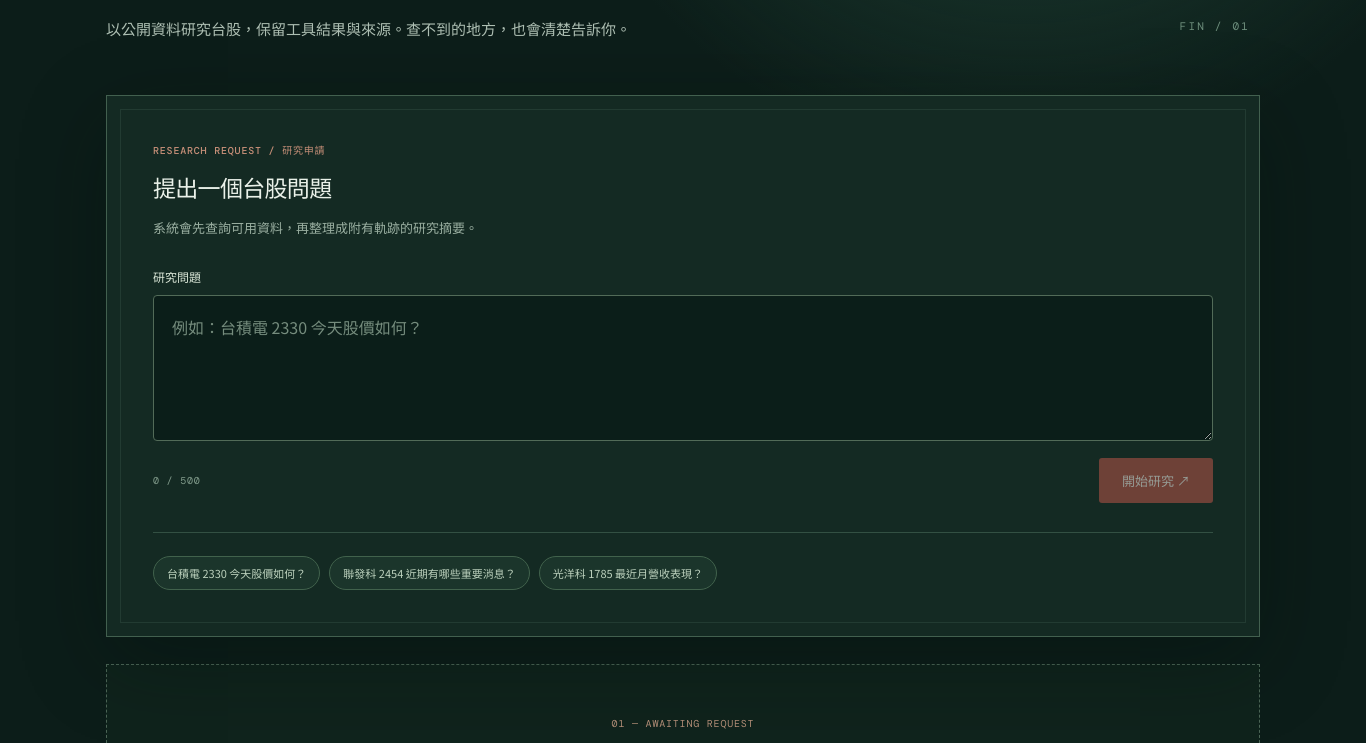
Test: FinScope React research flow › shows the API error detail when research fails
(page scrolled)
Type "2330 今天股價" into the text box labelled "研究問題".
click(683, 368); type("2330 今天股價")  # box [153,295,1213,441]
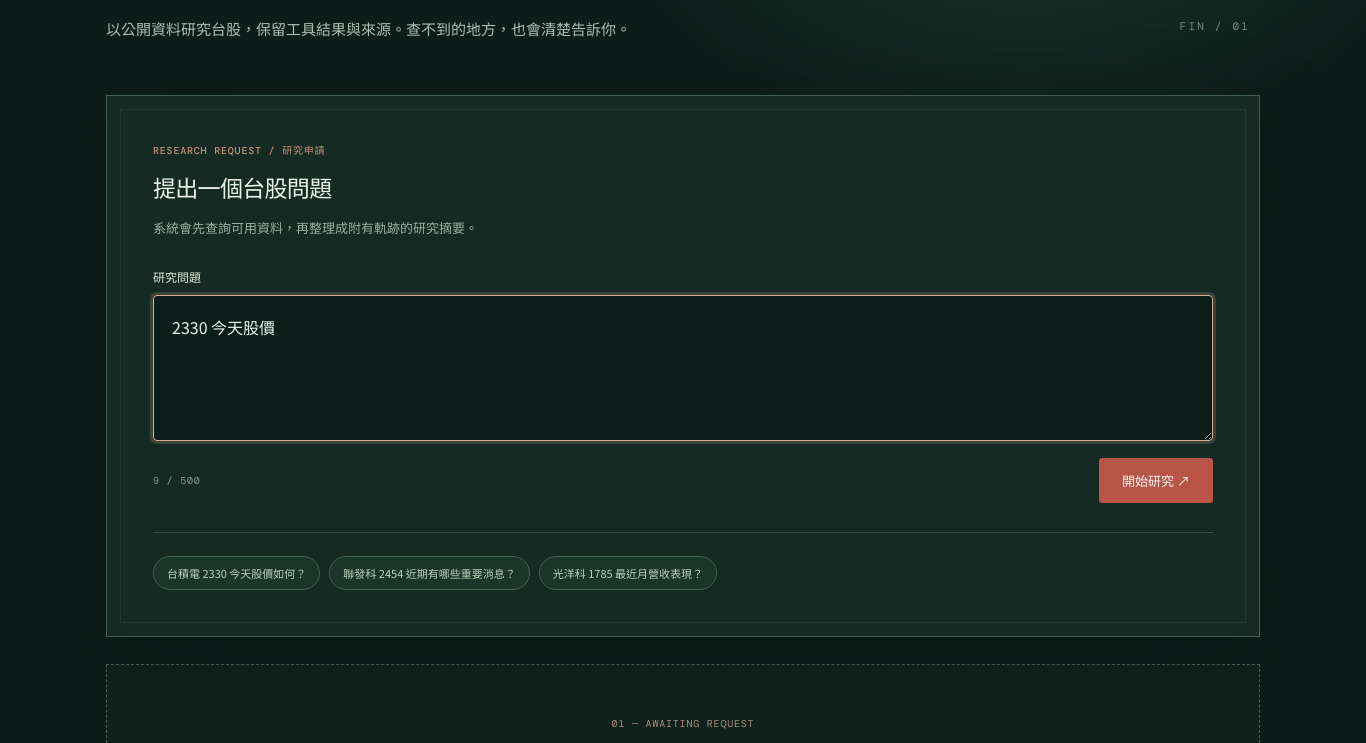
Click the button "開始研究 ↗".
click(1156, 481)  # box [1099,458,1213,503]
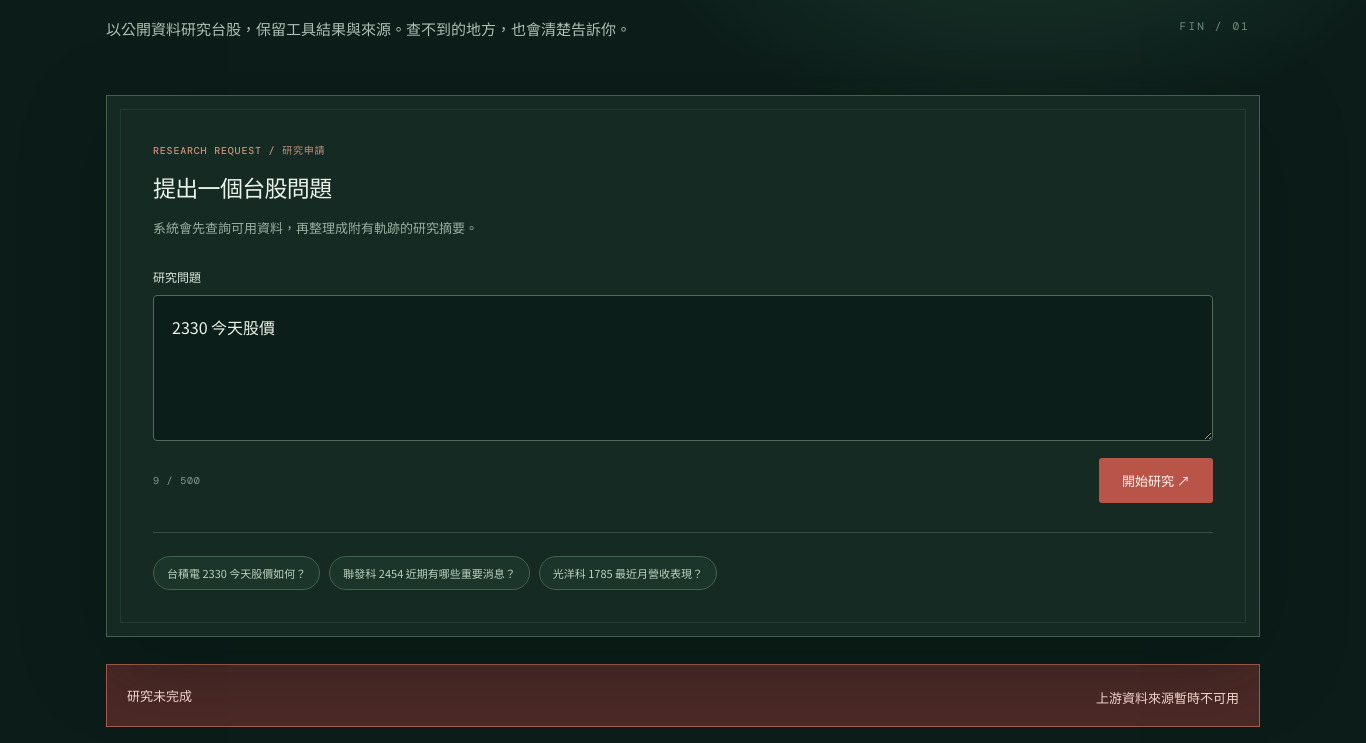
Expected: the message shows "上游資料來源暫時不可用", [1096,688,1239,707]
